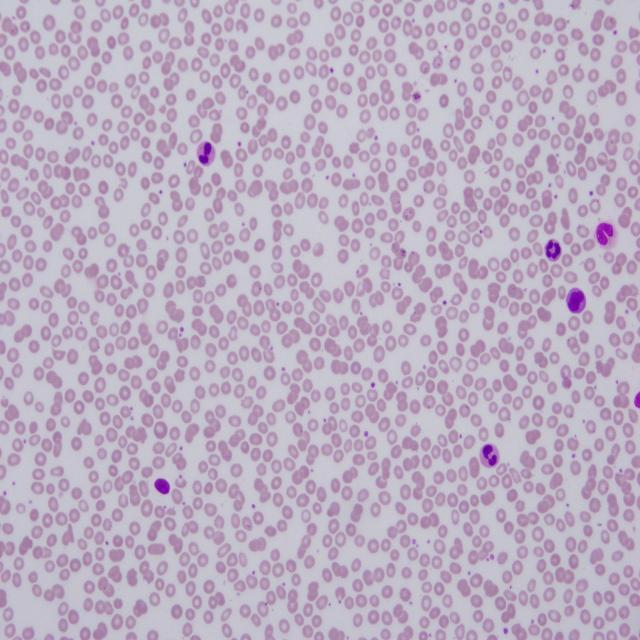cell: (480, 443, 500, 467), (196, 142, 215, 166), (545, 239, 561, 261)
